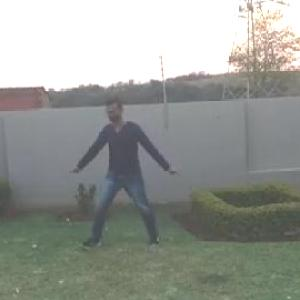land: (68, 81, 186, 253)
